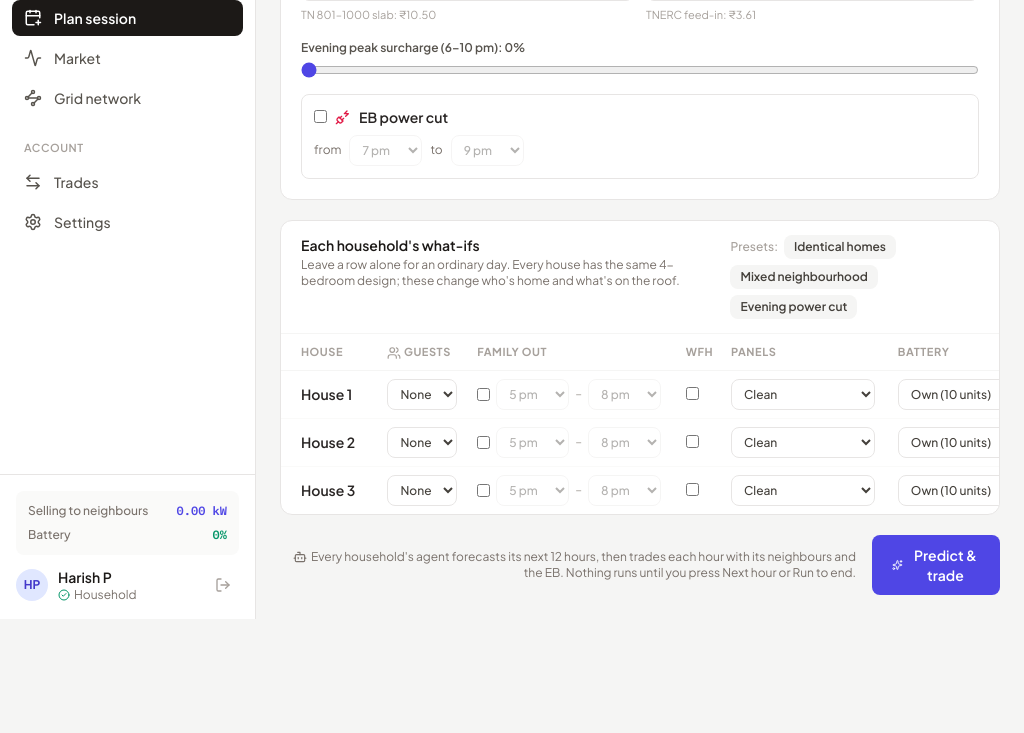
Scenario: interactions › a rejected plan shows why and stays on the page
(page scrolled)
Expected: the text "House 3" is shown, [281, 466, 380, 514]
Click the button "Predict & trade": (936, 564) [872, 534, 1000, 594]
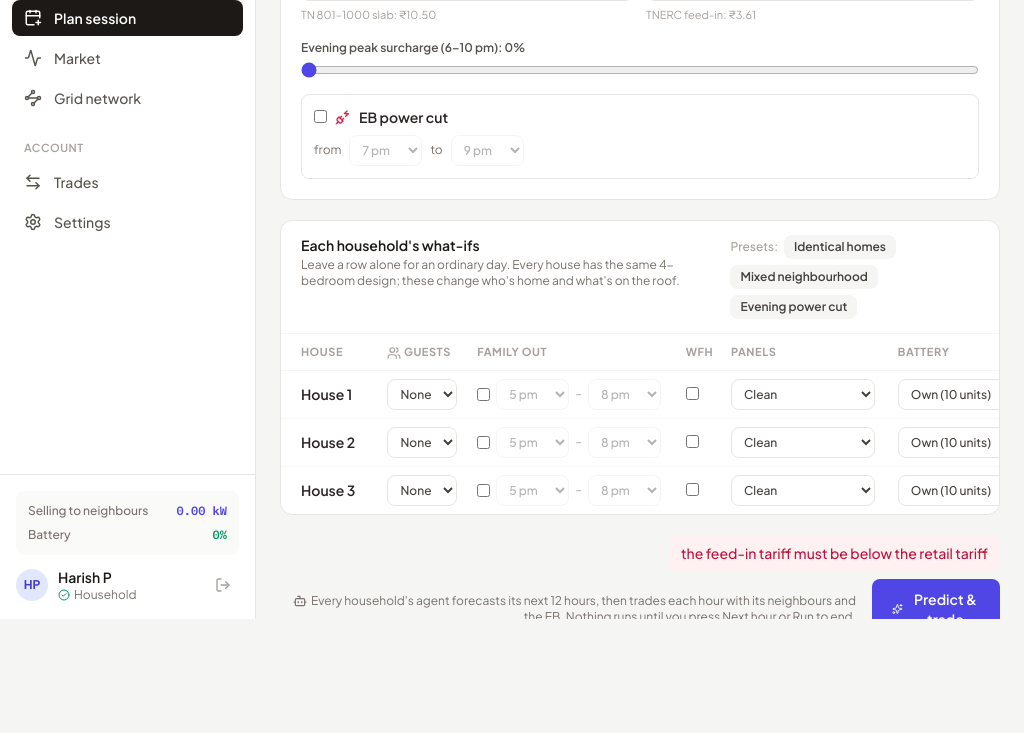
Expected: the heading "Each household's what-ifs" is shown, [301, 236, 480, 254]
Now the message shows "feed-in tariff must be below", box [681, 544, 988, 562]
